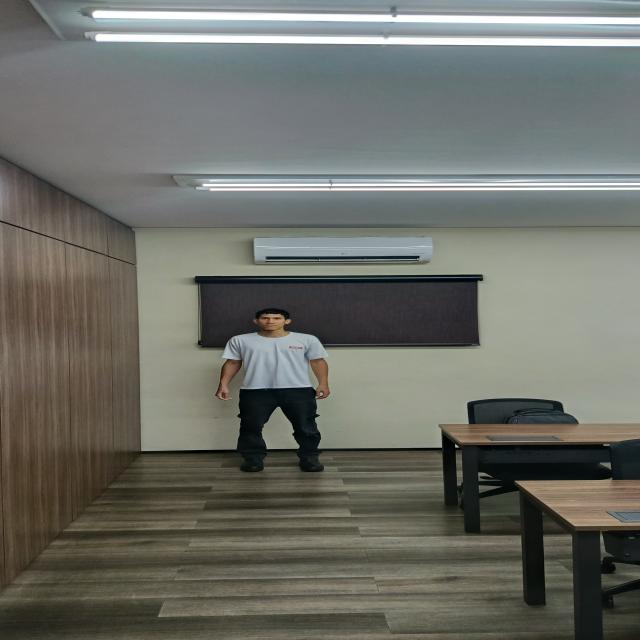sem_oculos: (250, 317, 292, 321)
